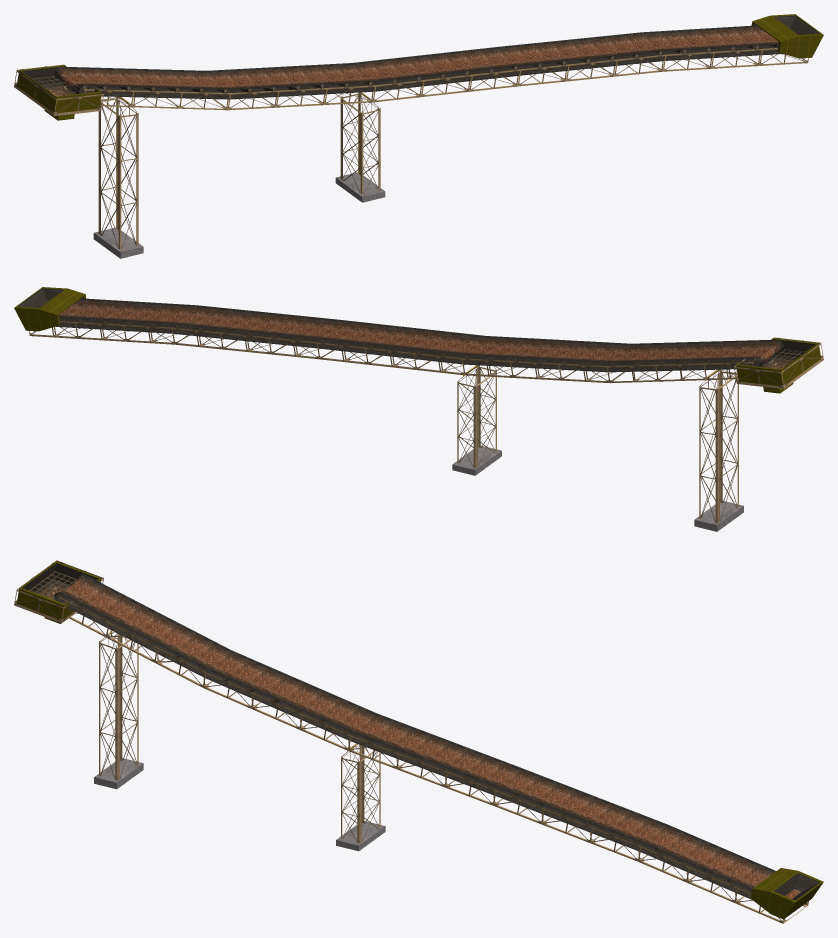
The model's file is des_quarrybelt15.obj.
3 renders of one model, top to bottom at view 1: azimuth 30°, elevation 25°; view 2: azimuth 150°, elevation 25°; view 3: azimuth 330°, elevation 25°, orthographic.
Visible parts, largest first — view 1: des_quarrybelt15; view 2: des_quarrybelt15; view 3: des_quarrybelt15.
Part boxes in pixels (x1,y1,x2,y2): des_quarrybelt15: (14,14,823,258); des_quarrybelt15: (14,287,823,531); des_quarrybelt15: (14,560,823,923).
Bounding box in the file's own units: 42.14 × 9.64 × 3.76.
Materials: 6 (6 with a texture image).
